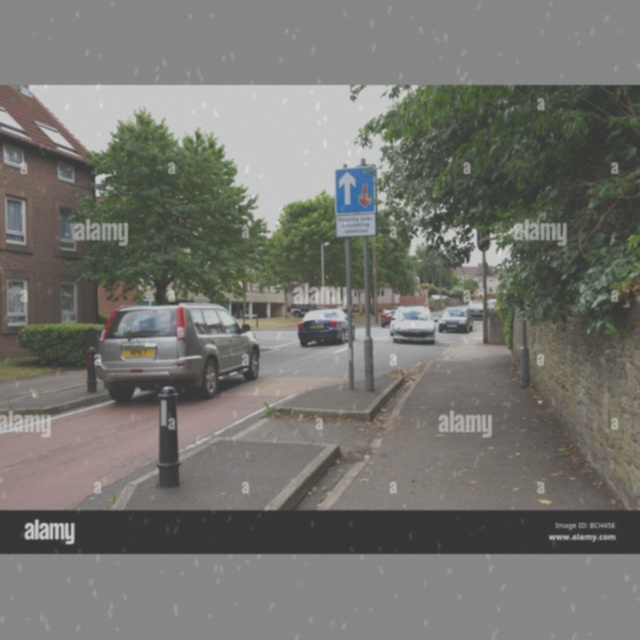Priority_for_Oncoming_Traffic: (335, 167, 378, 214)
